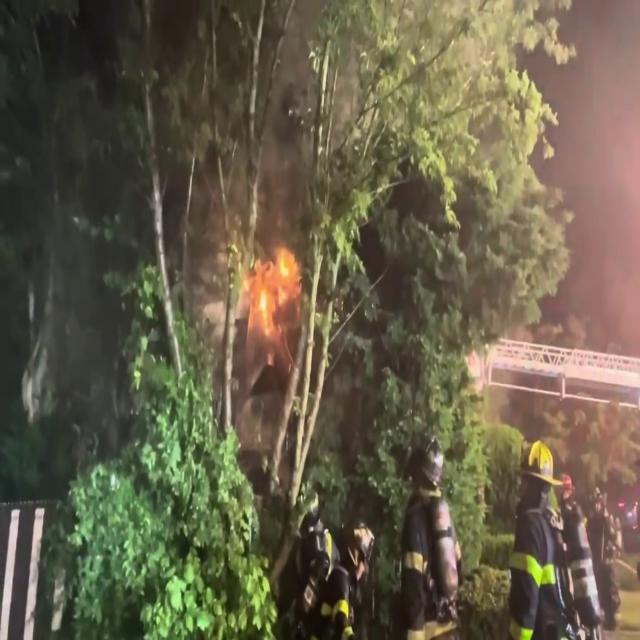Fire: (235, 220, 302, 335)
Smoke: (0, 25, 136, 469)
